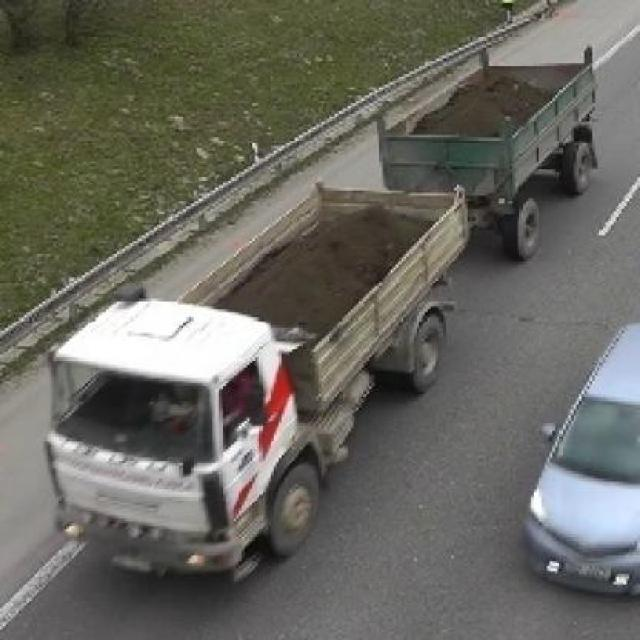truck: (46, 38, 601, 596)
